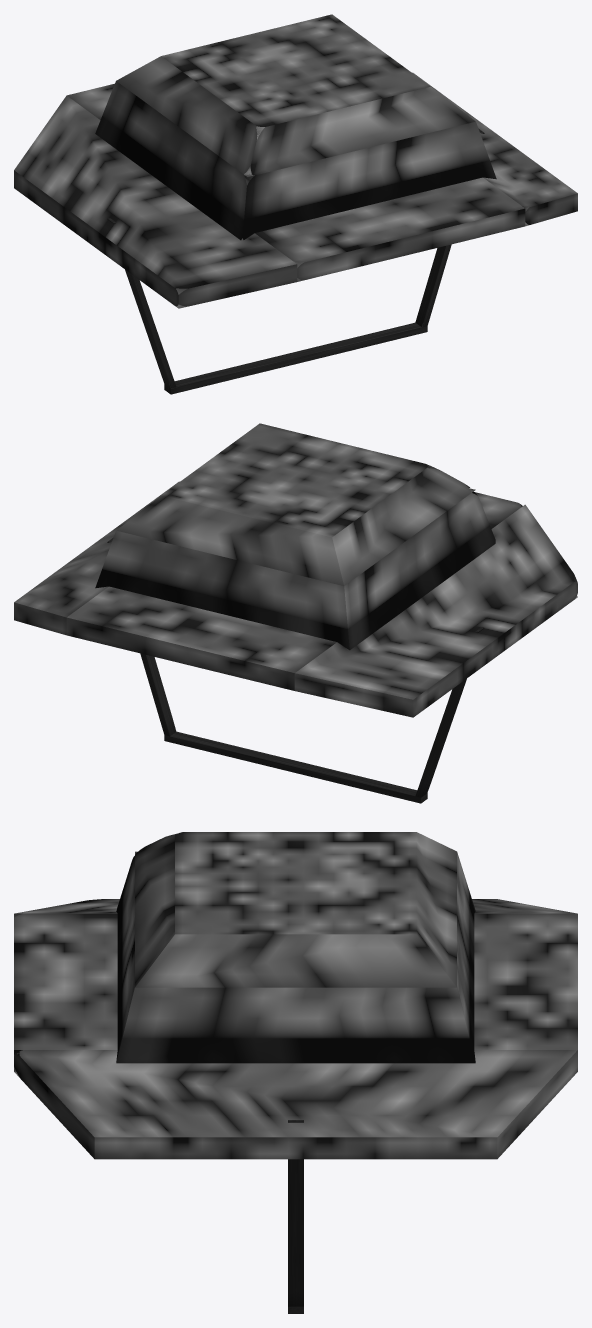
File: marineurbanhat.obj
The picture shows the model from 3 angles, top to bottom: view 1: azimuth 30°, elevation 25°; view 2: azimuth 150°, elevation 25°; view 3: azimuth 270°, elevation 25°; orthographic projection. The views are drawn at different scales.
Parts seen in each view (by area): view 1: headModel3, headModel4, headModel2, headModel0, headModel1, headModel7, headModel5, headModel6; view 2: headModel3, headModel4, headModel2, headModel0, headModel1, headModel7, headModel5, headModel6; view 3: headModel1, headModel3, headModel2, headModel0, headModel6, headModel4.
Boxes of the visible parts, bbox=[...] form: headModel3: bbox=[116, 14, 475, 176]; headModel4: bbox=[14, 95, 297, 308]; headModel2: bbox=[95, 81, 496, 240]; headModel0: bbox=[67, 83, 525, 281]; headModel1: bbox=[412, 72, 577, 226]; headModel7: bbox=[164, 322, 427, 394]; headModel5: bbox=[107, 218, 176, 388]; headModel6: bbox=[415, 128, 484, 327]; headModel3: bbox=[116, 423, 475, 585]; headModel4: bbox=[294, 504, 577, 717]; headModel2: bbox=[95, 489, 495, 650]; headModel0: bbox=[66, 492, 522, 690]; headModel1: bbox=[14, 481, 179, 635]; headModel7: bbox=[164, 731, 427, 803]; headModel5: bbox=[415, 627, 484, 797]; headModel6: bbox=[107, 537, 176, 736]; headModel1: bbox=[14, 1050, 577, 1159]; headModel3: bbox=[135, 832, 456, 987]; headModel2: bbox=[116, 852, 475, 1063]; headModel0: bbox=[14, 913, 577, 1071]; headModel6: bbox=[288, 1120, 303, 1306]; headModel4: bbox=[14, 899, 576, 917].
Bounding box in the file's own units: 14 × 9.7 × 14.
